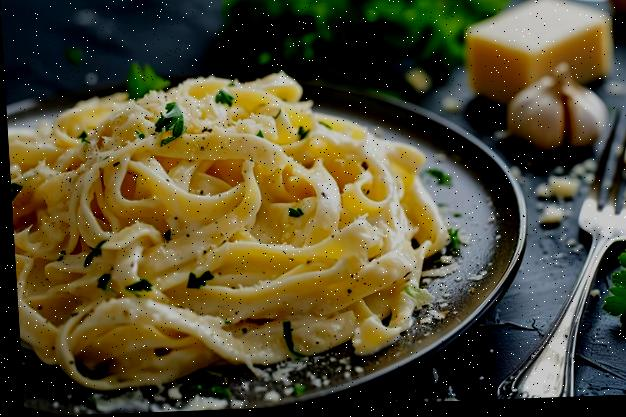pasta: (8, 73, 446, 389)
